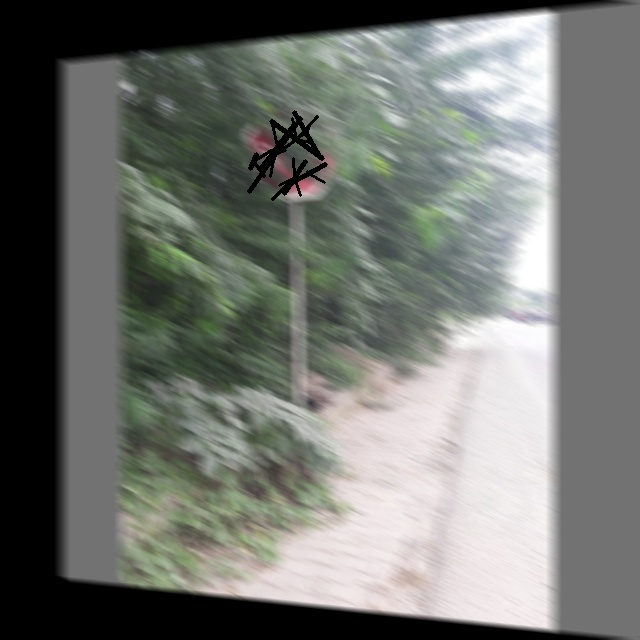Stop: (245, 106, 334, 201)
